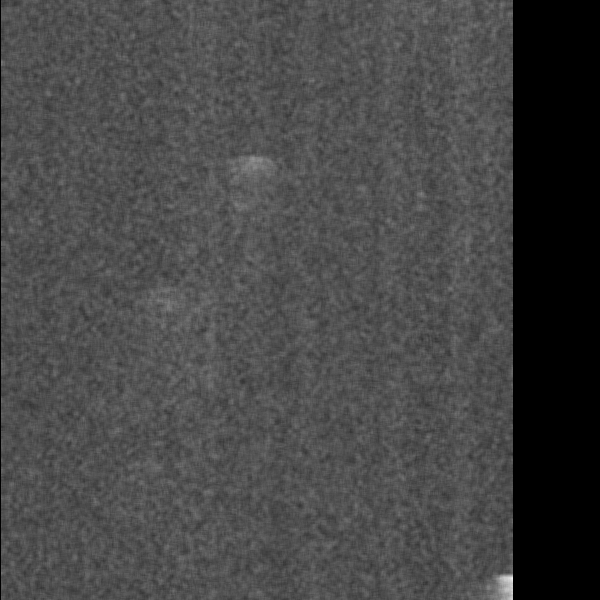spark: (223, 150, 281, 206)
